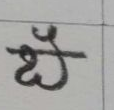ai_matra: (33, 25, 68, 50)
